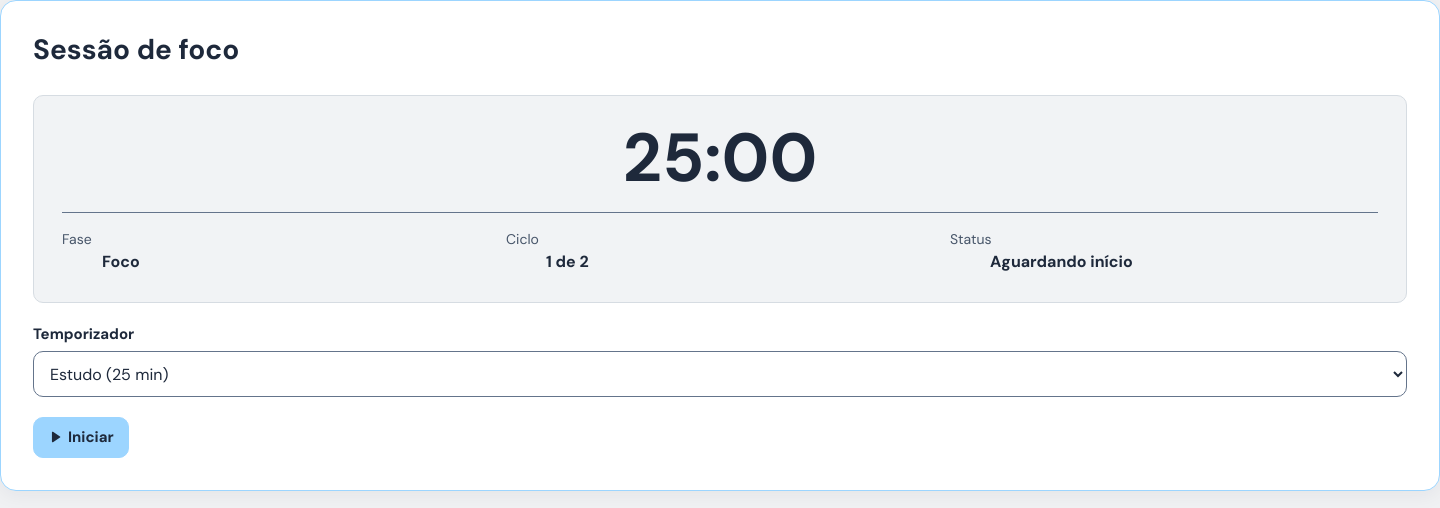
PainelSessao › pausa, retoma e pula fases da sessão ativa
Press Tab
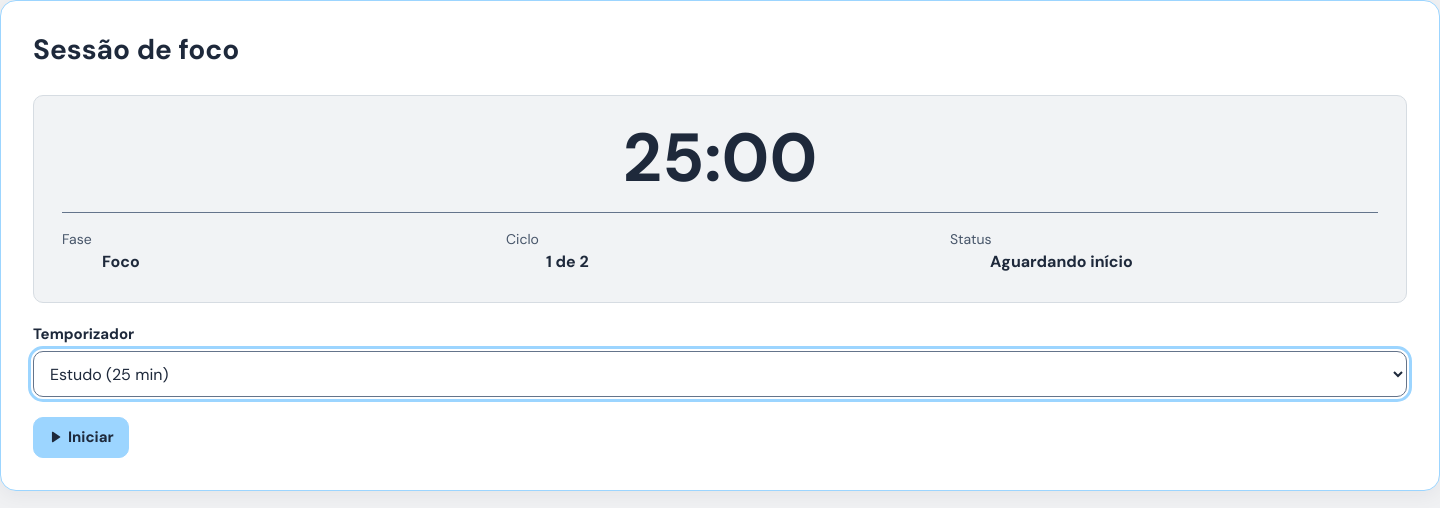
Press Tab
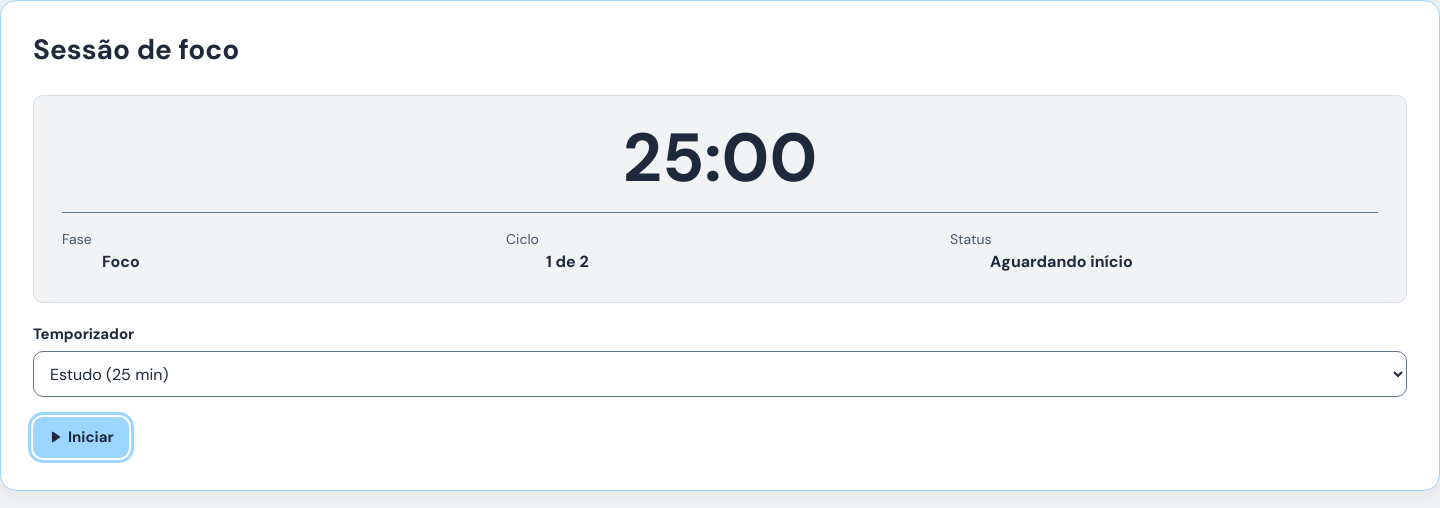
Press Enter
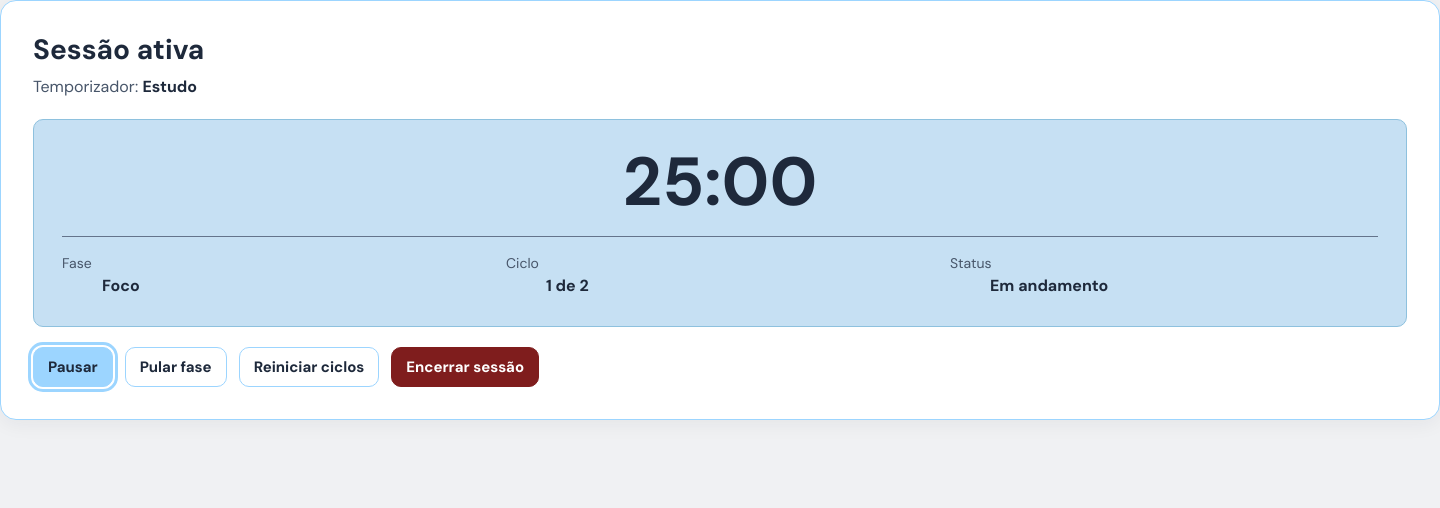
Press Enter
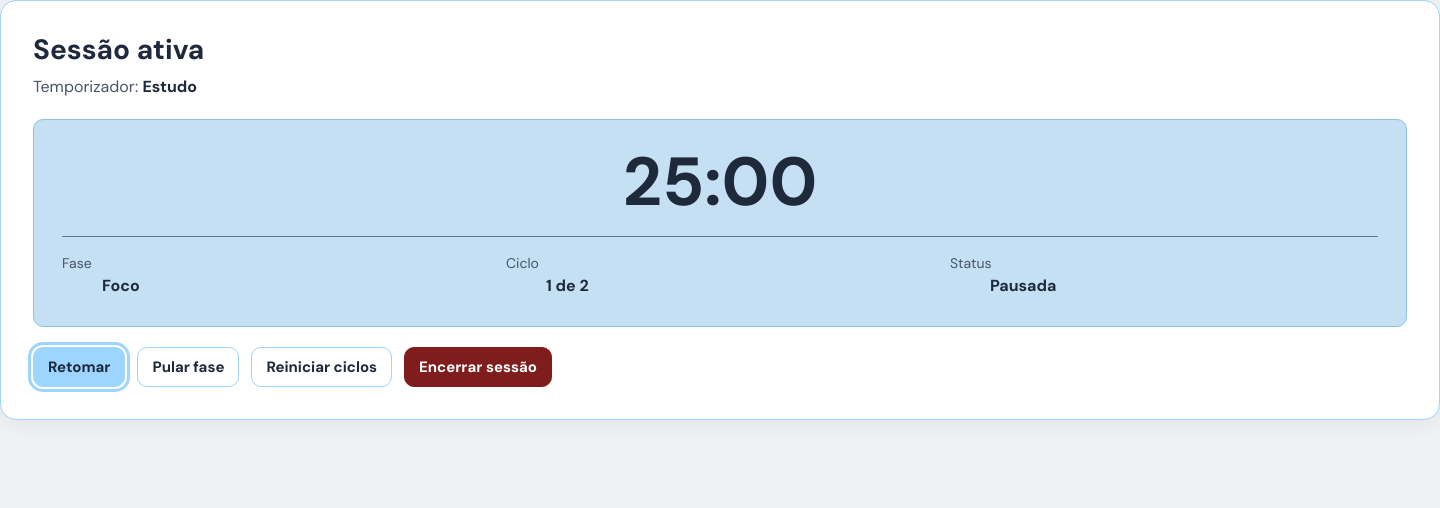
Expected: the text "Pausada" is shown, [990,275,1056,296]
Press Enter
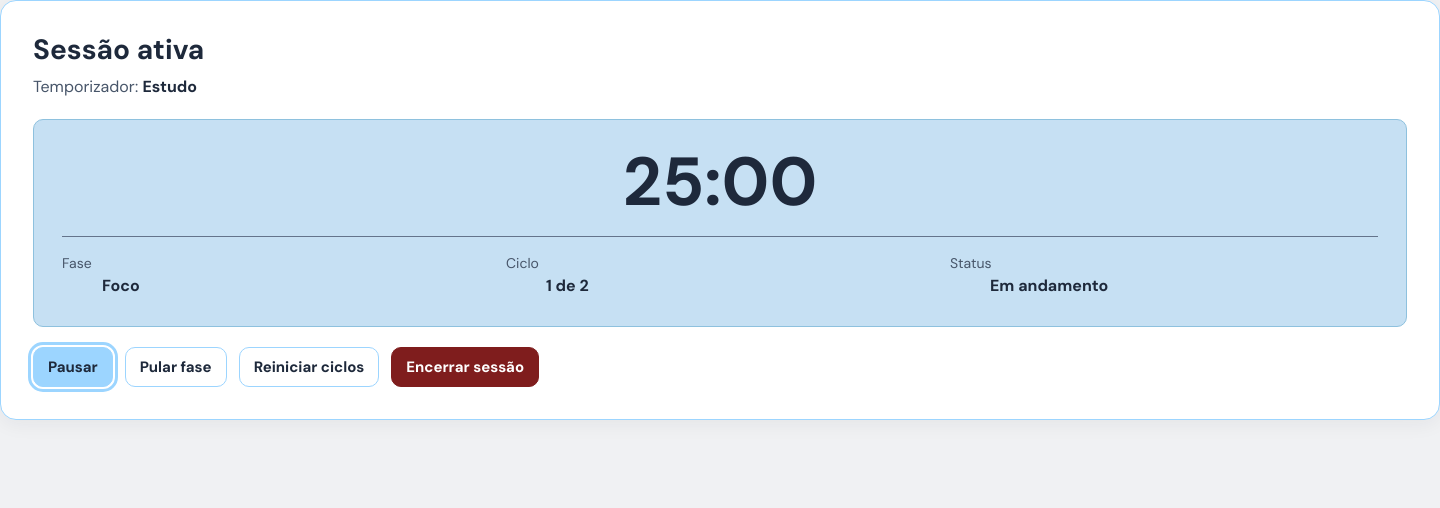
Expected: the text "Em andamento" is shown, [990,275,1108,296]
Click the button "Pular fase". click: (176, 367)
box: [125,347,227,387]
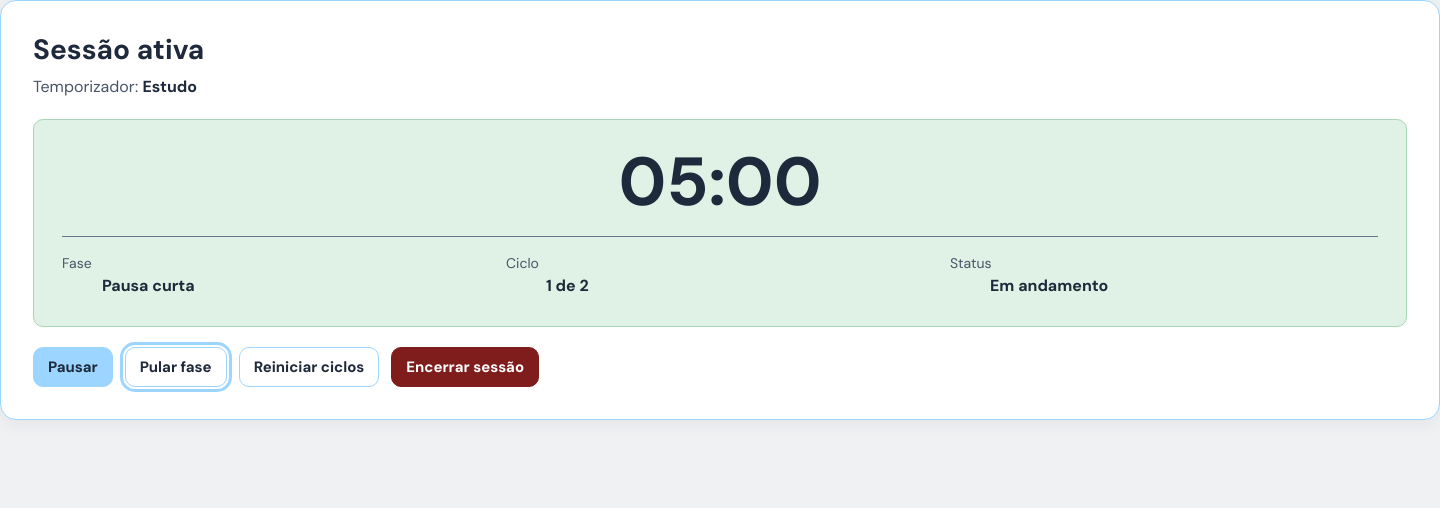
Expected: the text "1 de 2" is shown, [546,275,589,296]
Expected: the text "Pausa curta" is shown, [102,275,195,296]
